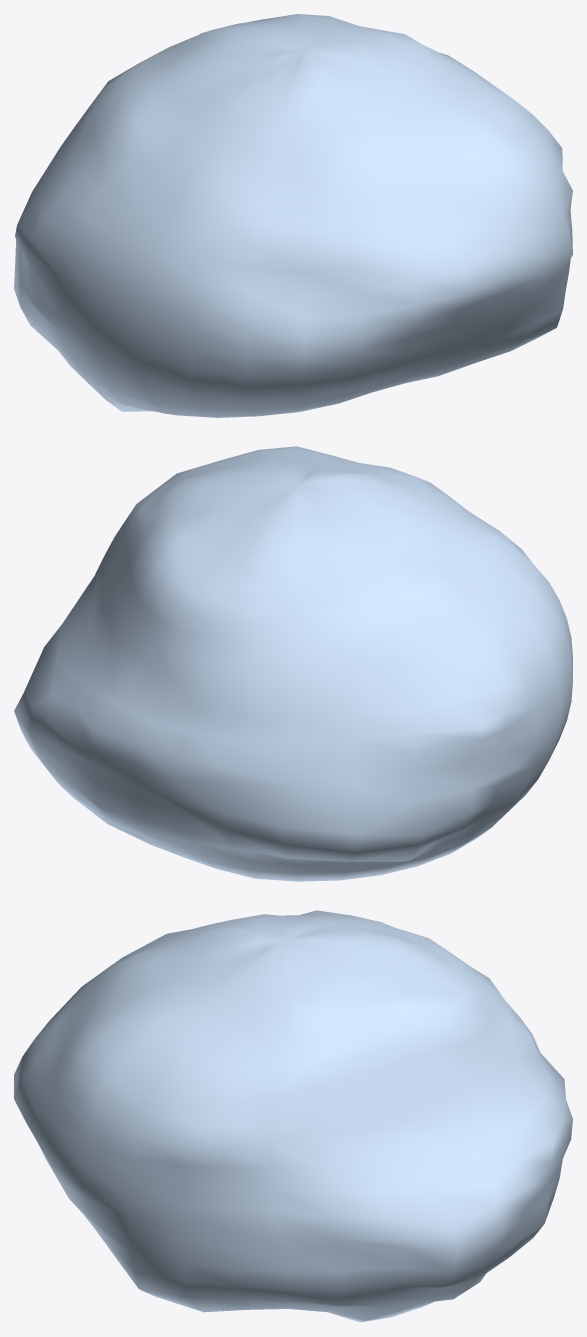
Rendered from hAsteroid3.obj.
The picture shows the model from 3 angles, top to bottom: view 1: azimuth 30°, elevation 25°; view 2: azimuth 150°, elevation 25°; view 3: azimuth 270°, elevation 25°; orthographic projection. The views are drawn at different scales.
Visible parts, largest first — view 1: sphere14; view 2: sphere14; view 3: sphere14.
Part boxes in pixels (left/top/right/bottom): sphere14: left=14, top=14, right=572, bottom=417; sphere14: left=14, top=446, right=572, bottom=881; sphere14: left=14, top=910, right=572, bottom=1322.
Size of the model in its own units: 146 by 96.56 by 154.
